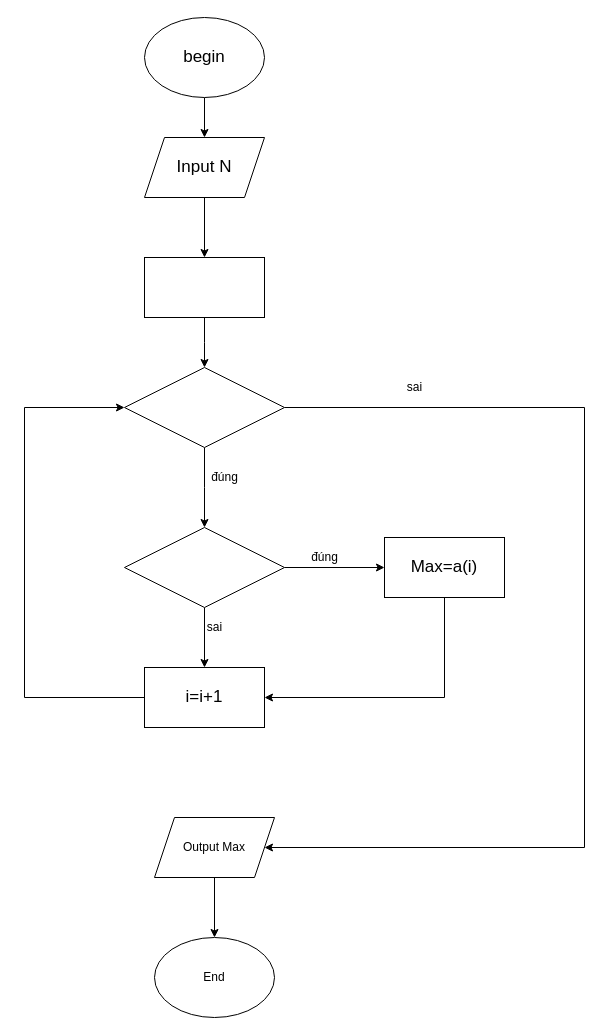
Some shapes in this 610 by 1035 pixel diagram are drawn without their labels. Here are the shapes that lost their labels. From the top down, the box of each, then its label:
(144, 256, 264, 318): i=1 Max=a(i) i=i+1
(124, 366, 284, 448): while i <= N
(124, 526, 284, 608): a(i)> Max
